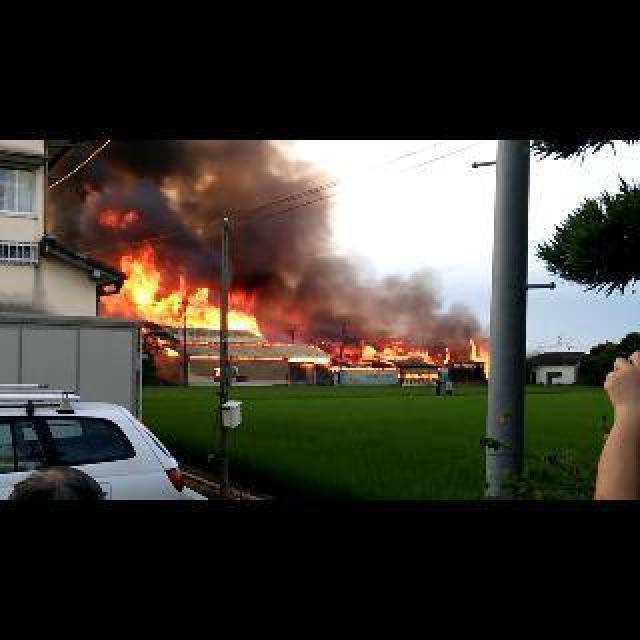Fire: (90, 248, 272, 340), (328, 340, 450, 364), (468, 340, 490, 378), (96, 210, 136, 226), (394, 370, 438, 378), (328, 366, 396, 370), (254, 340, 284, 346), (308, 342, 324, 350)
Smoke: (54, 140, 350, 256), (272, 248, 480, 350)
